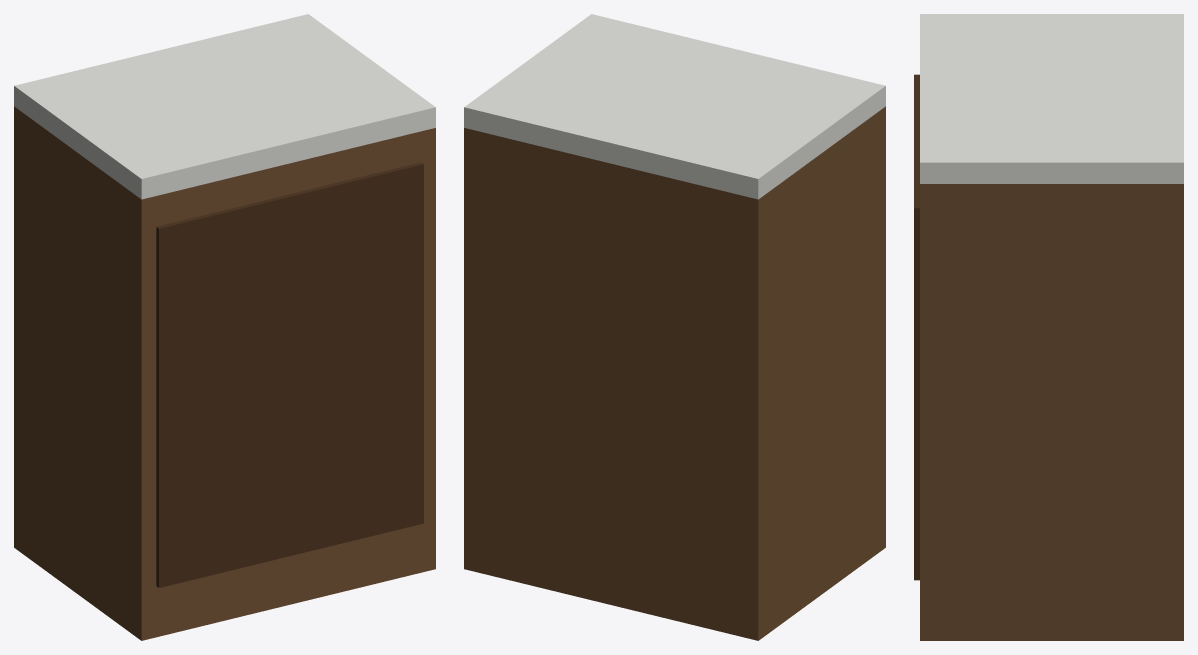
File: vanity.glb
3 renders of one model, left to right at view 1: azimuth 30°, elevation 25°; view 2: azimuth 150°, elevation 25°; view 3: azimuth 270°, elevation 25°, orthographic. The views are drawn at different scales.
Parts seen in each view (by area): view 1: vanity; view 2: vanity; view 3: vanity.
Part boxes in pixels (bbox=[...]): vanity: bbox=[14, 14, 435, 640]; vanity: bbox=[464, 14, 885, 640]; vanity: bbox=[914, 14, 1183, 640].
Bounding box in the file's own units: 0.6 × 0.9 × 0.46.
